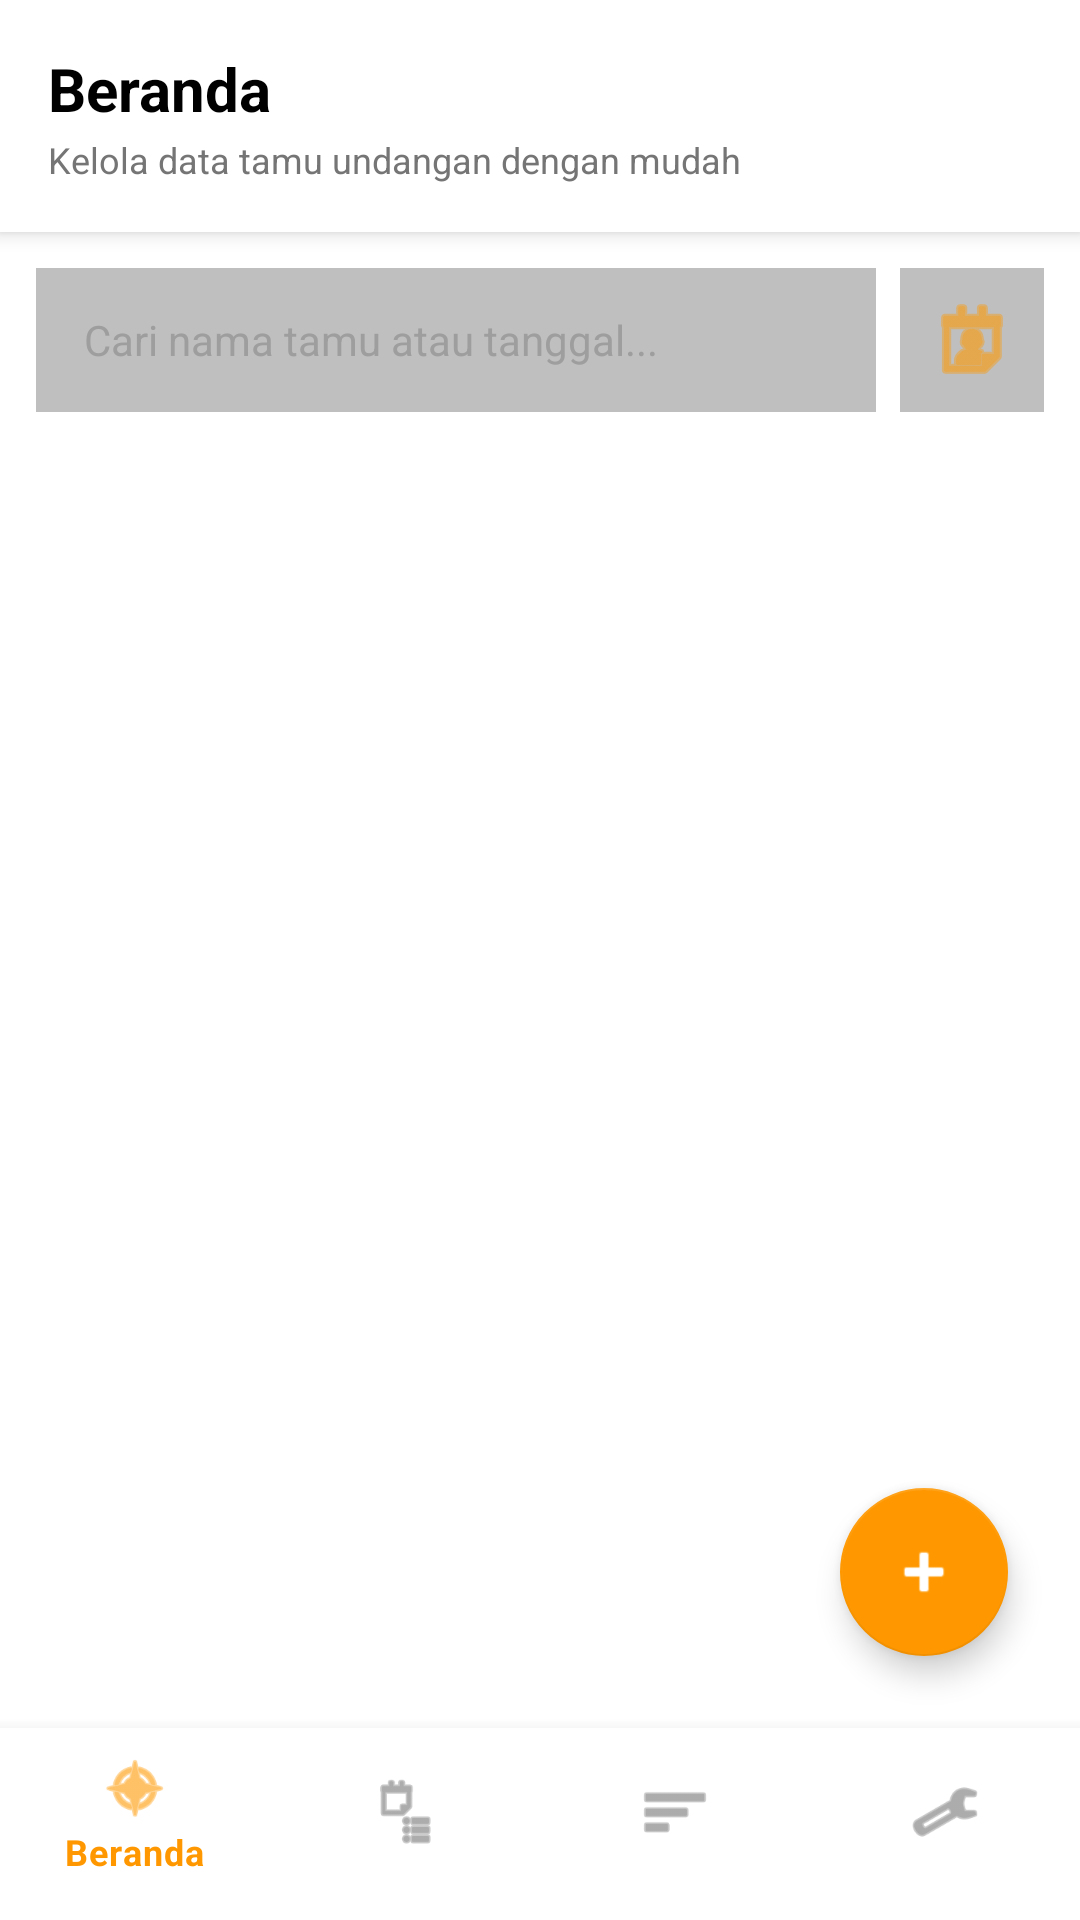

Where to tap for icons on this 1080×1920 app screen, as (x,y):
Pilih Tanggal: (972,340)
Tambah Tamu: (924,1572)
